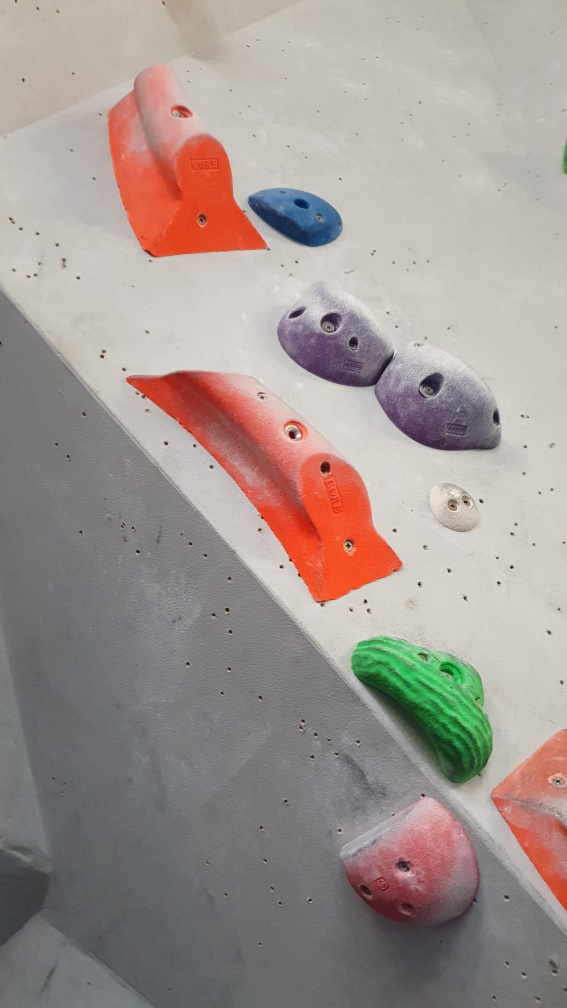Crimp: (246, 175, 345, 251)
Jug: (352, 628, 498, 785), (373, 342, 508, 452), (279, 282, 399, 391)
Pinch: (126, 368, 403, 604), (104, 64, 272, 260), (491, 722, 567, 907)
